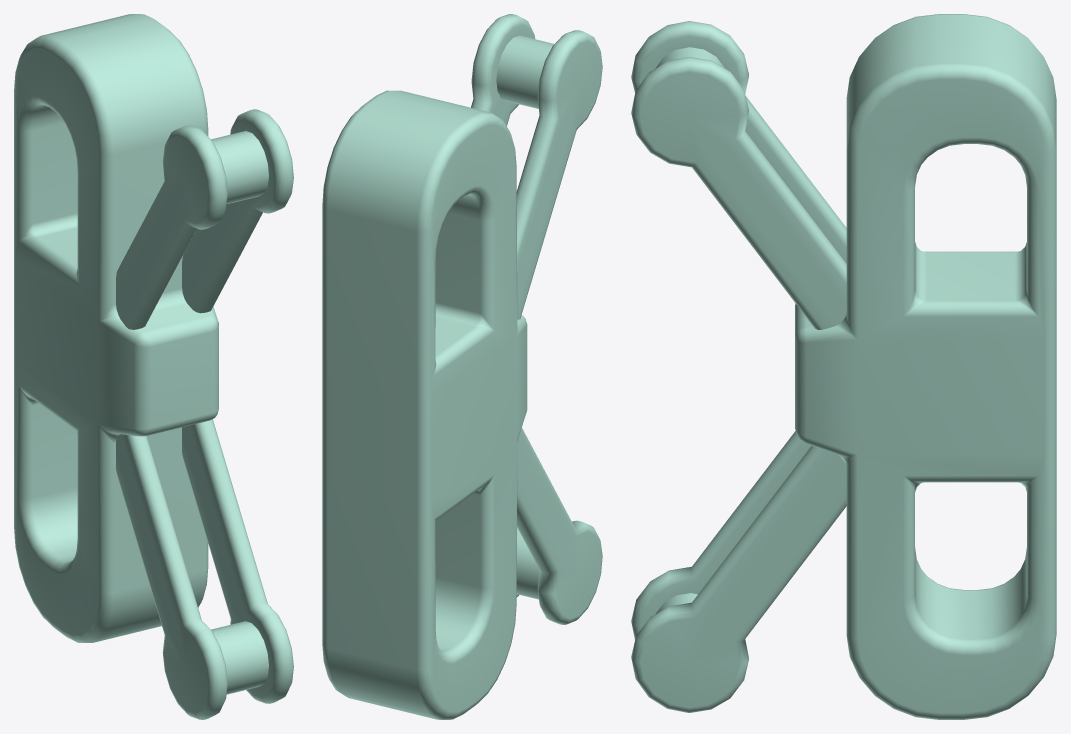
The model's file is SM_Robot_Hand_part06.fbx.
3 views of the same model, side by side, from view 1: azimuth 30°, elevation 25°; view 2: azimuth 150°, elevation 25°; view 3: azimuth 270°, elevation 25° (orthographic). The views are drawn at different scales.
Visible parts, largest first — view 1: SM_Robot_Hand_part06; view 2: SM_Robot_Hand_part06; view 3: SM_Robot_Hand_part06.
Boxes of the visible parts, x1,y1,x2,y2 form: SM_Robot_Hand_part06: (14, 14, 293, 719); SM_Robot_Hand_part06: (322, 14, 602, 719); SM_Robot_Hand_part06: (631, 14, 1056, 719).
Size of the model in its own units: 3.87 by 19.63 by 11.54.
